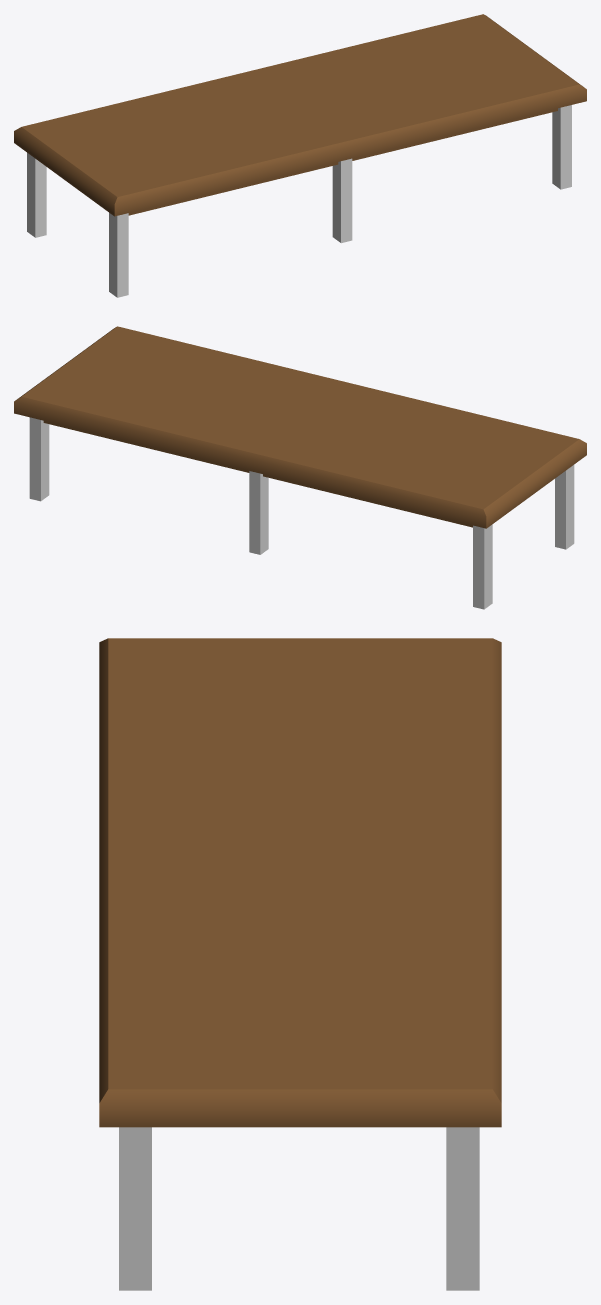
The model's file is Table.fbx.
3 views of the same model, one above another, from view 1: azimuth 30°, elevation 25°; view 2: azimuth 150°, elevation 25°; view 3: azimuth 270°, elevation 25° (orthographic). The views are drawn at different scales.
Parts seen in each view (by area): view 1: Table; view 2: Table; view 3: Table.
Boxes of the visible parts, bbox=[...] form: Table: bbox=[14, 14, 586, 297]; Table: bbox=[14, 326, 586, 609]; Table: bbox=[99, 638, 501, 1290].
Bounding box in the file's own units: 991 × 207 × 365.
